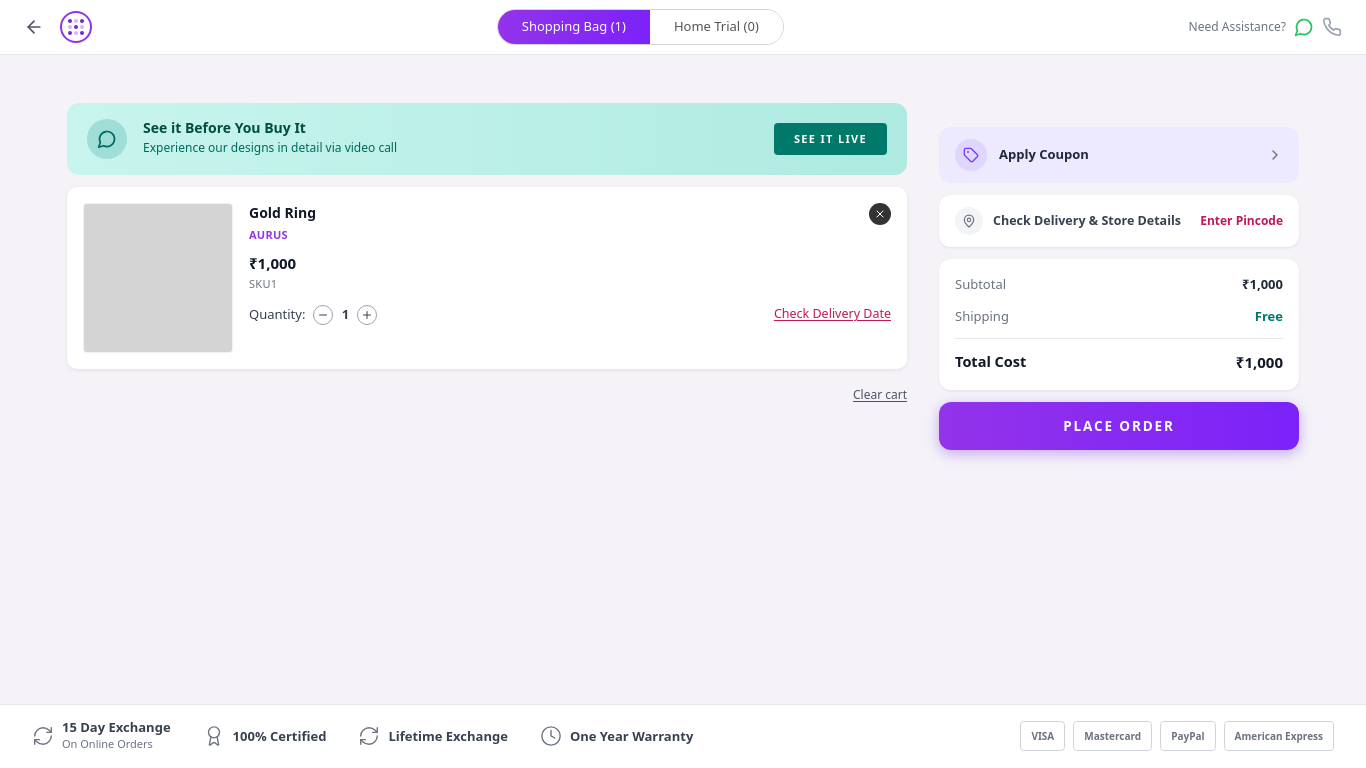
AurusCart — optional account prompt before checkout › "Continue as Guest" goes to checkout without any sign-in
The width and height of the screenshot is (1366, 768).
What coordinates should you click on to do the following:
click the link "PLACE ORDER"
I would click on:
 (1119, 426)
Its box is [939, 402, 1299, 450].
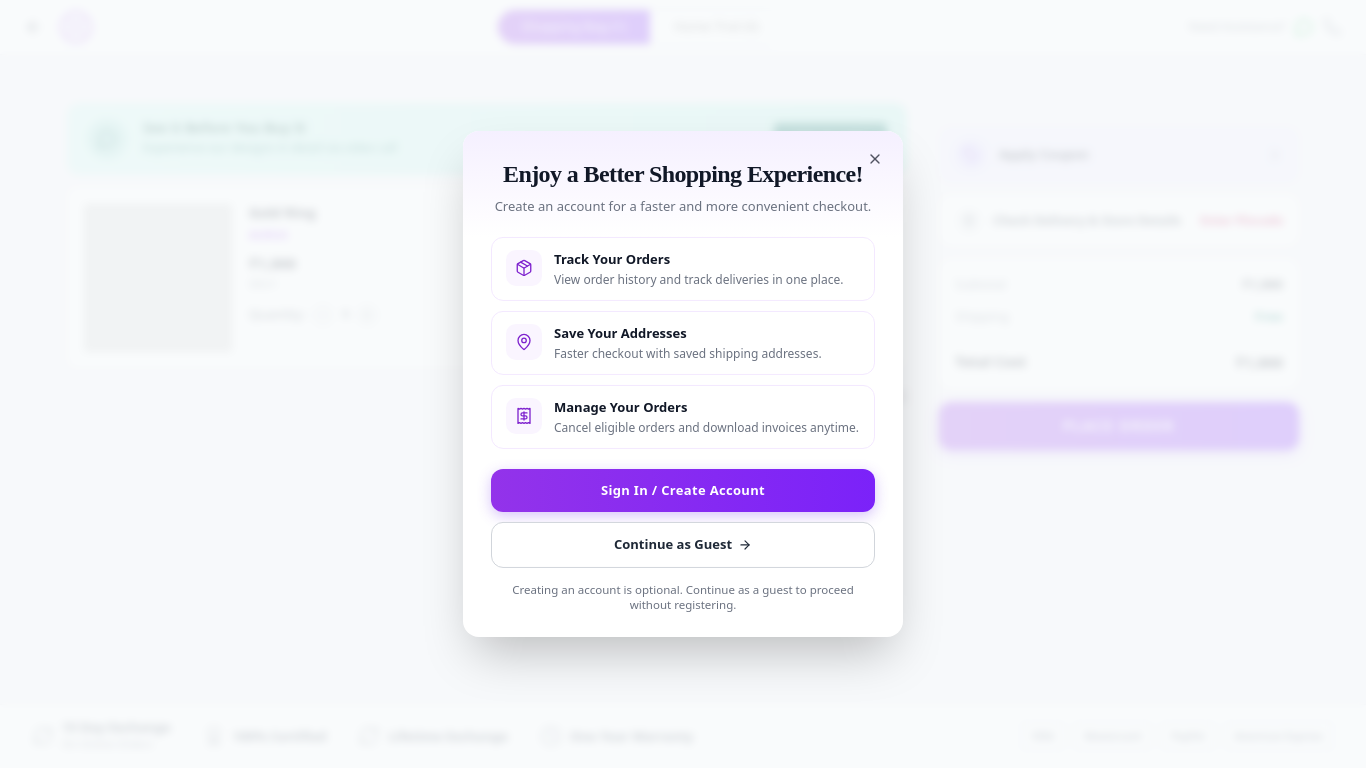
What coordinates should you click on to do the following:
click the button "Continue as Guest"
I would click on:
 (683, 545)
Its box is [491, 522, 875, 567].
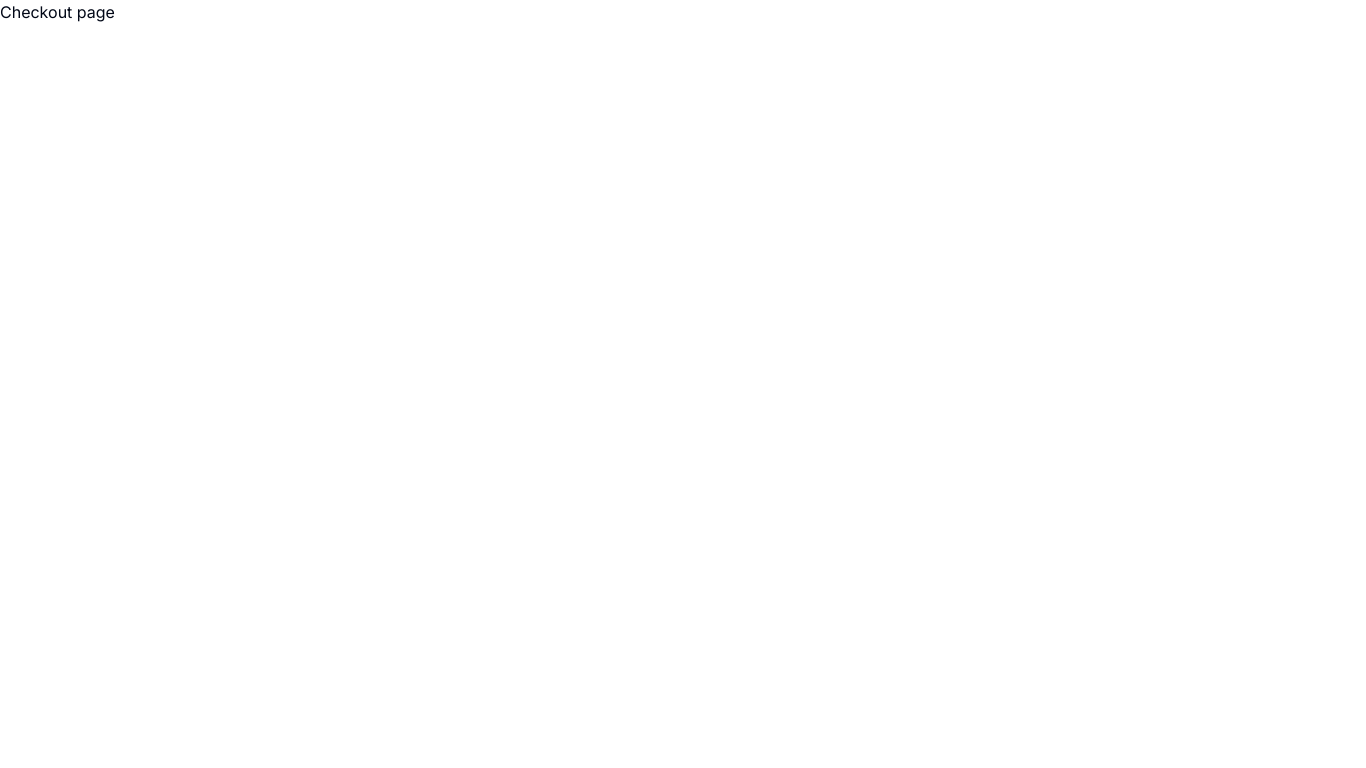
Check: the text "Checkout page" is shown, box [0, 2, 115, 22]
